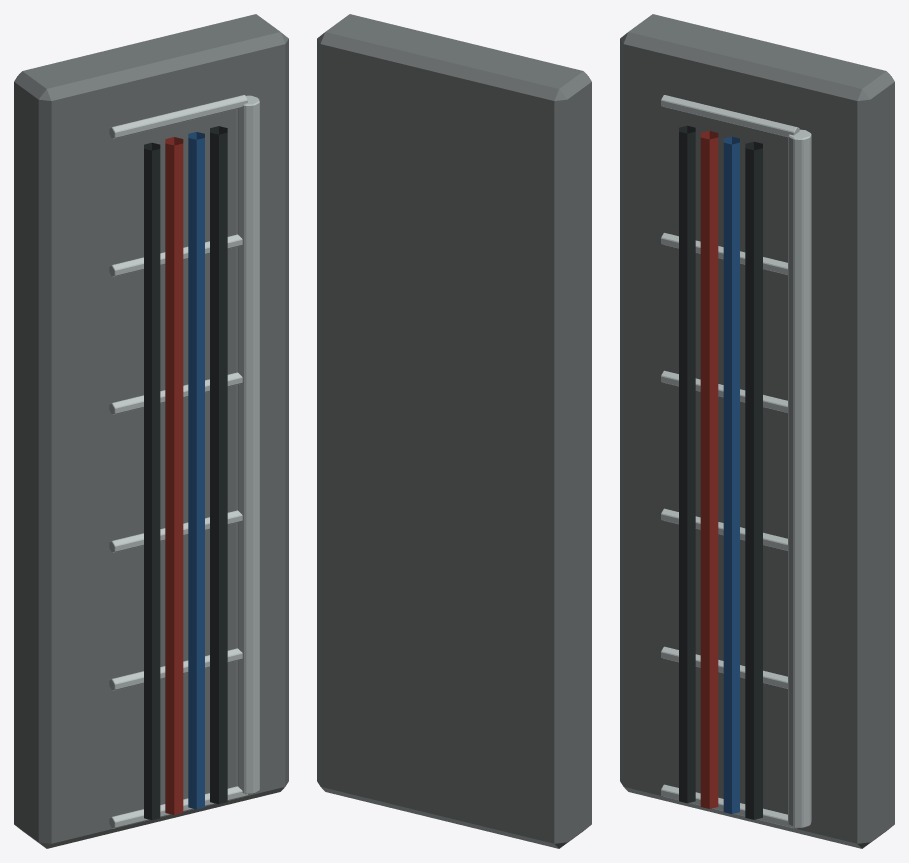
Rendered from runtime.glb.
3 views of the same model, side by side, from view 1: azimuth 30°, elevation 25°; view 2: azimuth 150°, elevation 25°; view 3: azimuth 330°, elevation 25° (orthographic).
Visible parts, largest first — view 1: reactor-cable-tray-v03_nocol; view 2: reactor-cable-tray-v03_nocol; view 3: reactor-cable-tray-v03_nocol.
Part boxes in pixels (bbox=[...]): reactor-cable-tray-v03_nocol: bbox=[14, 14, 288, 848]; reactor-cable-tray-v03_nocol: bbox=[317, 14, 591, 848]; reactor-cable-tray-v03_nocol: bbox=[620, 14, 894, 848].
Size of the model in its own units: 1.06 by 3.08 by 0.4177.
